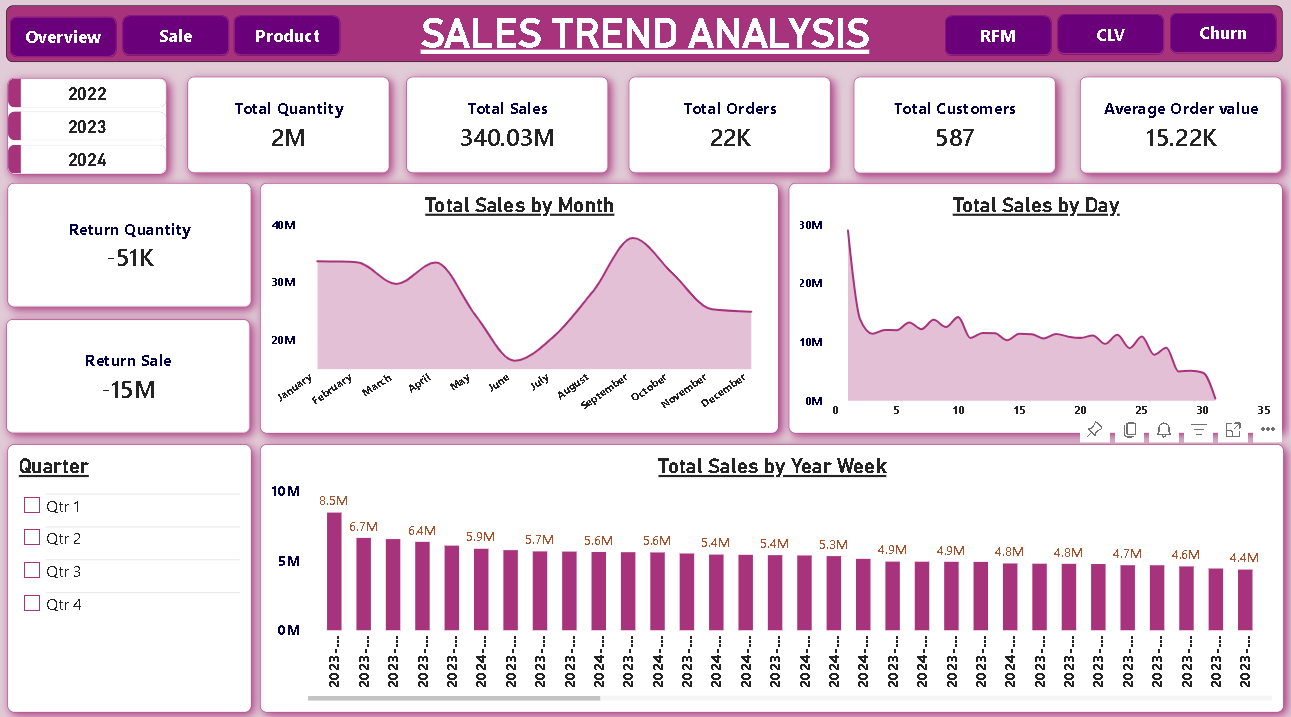

The page's visual inventory and layout, read from the dashboard file:
{"tool":"powerbi","page":{"name":"Sale","canvas":[1920,1080],"ordinal":2},"visuals":[{"type":"textbox","title":"SALES TREND ANALYSIS","box":[9.2,18.3,1896,84],"z":0},{"type":"lineChart","fields":{"Category":["Master_Data.Bill Date.Variation.Date Hierarchy.Month"],"Y":["Master_Data.Total Sales"]},"box":[387,282.5,770.4,372.4],"z":1000},{"type":"lineChart","fields":{"Category":["Master_Data.Bill Date.Variation.Date Hierarchy.Day"],"Y":["Master_Data.Total Sales"]},"box":[1172.1,282.5,733.7,372.4],"z":2000},{"type":"columnChart","fields":{"Category":["Master_Data.Year Week"],"Y":["Master_Data.Total Sales"]},"box":[386.8,669.8,1520.8,398.1],"z":3000},{"type":"slicer","title":"Quarter ","fields":{"Values":["Master_Data.Bill Date.Variation.Date Hierarchy.Quarter"]},"box":[11.3,669.8,362.3,398.1],"z":4000},{"type":"cardVisual","fields":{"Data":["Master_Data.Total Quantity"]},"box":[277.9,123.5,300,143],"z":5000},{"type":"advancedSlicerVisual","fields":{"Values":["Master_Data.Bill Date.Variation.Date Hierarchy.Year"]},"box":[10.9,125.5,237,143],"z":6000},{"type":"cardVisual","fields":{"Data":["Master_Data.Total Sales"]},"box":[603.5,124.7,300,143],"z":7000},{"type":"cardVisual","fields":{"Data":["Master_Data.Total Orders"]},"box":[933.6,124.7,300,143],"z":8000},{"type":"cardVisual","title":"total","fields":{"Data":["Master_Data.Total Customers"]},"box":[1267.5,124.7,300,143.6],"z":9000},{"type":"cardVisual","fields":{"Data":["Master_Data.Average Order value"]},"box":[1605,124.7,300,143.6],"z":10000},{"type":"cardVisual","fields":{"Data":["Master_Data.Return Quantity"]},"box":[11.3,283,362.3,184.9],"z":11000},{"type":"cardVisual","fields":{"Data":["Master_Data.Return Sale"]},"box":[9.4,484.9,362.3,169.8],"z":12000},{"type":"actionButton","box":[14.4,35,158.5,59.7],"z":12001},{"type":"actionButton","box":[181.1,32.9,158.5,59.7],"z":12002},{"type":"actionButton","box":[347.9,32.9,158.5,59.7],"z":12003},{"type":"actionButton","box":[1737.2,28.8,158.5,59.7],"z":12004},{"type":"actionButton","box":[1570.5,30.9,158.5,59.7],"z":12005},{"type":"actionButton","box":[1403.8,32.9,158.5,59.7],"z":12006}]}

Visuals, with their boxes in screenshot pixels (x1, y1, x2, y2), scaled from the page's 1920x1080 canvas onto the 1291x717 screenshot:
"SALES TREND ANALYSIS" textbox: 6 12 1281 68
lineChart - Master_Data.Bill Date.Variation.Date Hierarchy.Month x Master_Data.Total Sales: 260 188 778 435
lineChart - Master_Data.Bill Date.Variation.Date Hierarchy.Day x Master_Data.Total Sales: 788 188 1281 435
columnChart - Master_Data.Year Week x Master_Data.Total Sales: 260 445 1283 709
"Quarter " slicer: 8 445 251 709
cardVisual - Master_Data.Total Quantity: 187 82 389 177
advancedSlicerVisual - Master_Data.Bill Date.Variation.Date Hierarchy.Year: 7 83 167 178
cardVisual - Master_Data.Total Sales: 406 83 608 178
cardVisual - Master_Data.Total Orders: 628 83 829 178
"total" cardVisual: 852 83 1054 178
cardVisual - Master_Data.Average Order value: 1079 83 1281 178
cardVisual - Master_Data.Return Quantity: 8 188 251 311
cardVisual - Master_Data.Return Sale: 6 322 250 435
actionButton: 10 23 116 63
actionButton: 122 22 228 61
actionButton: 234 22 341 61
actionButton: 1168 19 1275 59
actionButton: 1056 21 1163 60
actionButton: 944 22 1050 61
